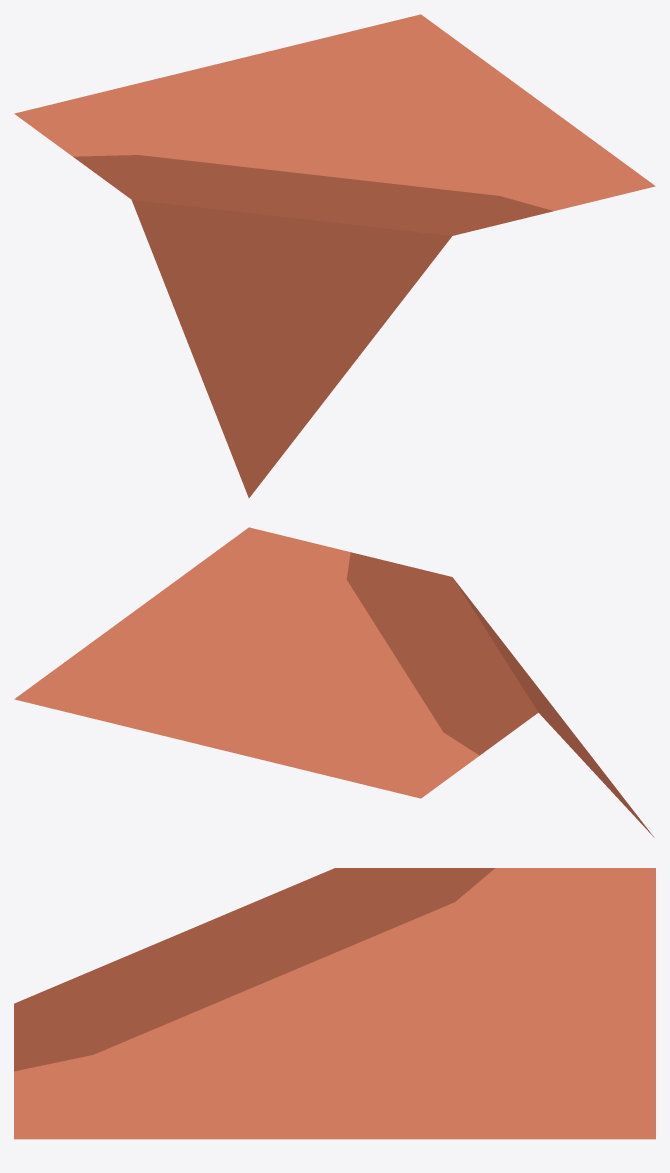
The model's file is terrain_sideCornerInner.glb.
The picture shows the model from 3 angles, top to bottom: view 1: azimuth 30°, elevation 25°; view 2: azimuth 150°, elevation 25°; view 3: azimuth 270°, elevation 25°; orthographic projection. The views are drawn at different scales.
Visible parts, largest first — view 1: terrain_sideCornerInner; view 2: terrain_sideCornerInner; view 3: terrain_sideCornerInner.
Part boxes in pixels (<box>): terrain_sideCornerInner: <box>14,14,655,497</box>; terrain_sideCornerInner: <box>14,527,654,837</box>; terrain_sideCornerInner: <box>14,868,655,1139</box>.
Size of the model in its own units: 1 by 0.5 by 1.
